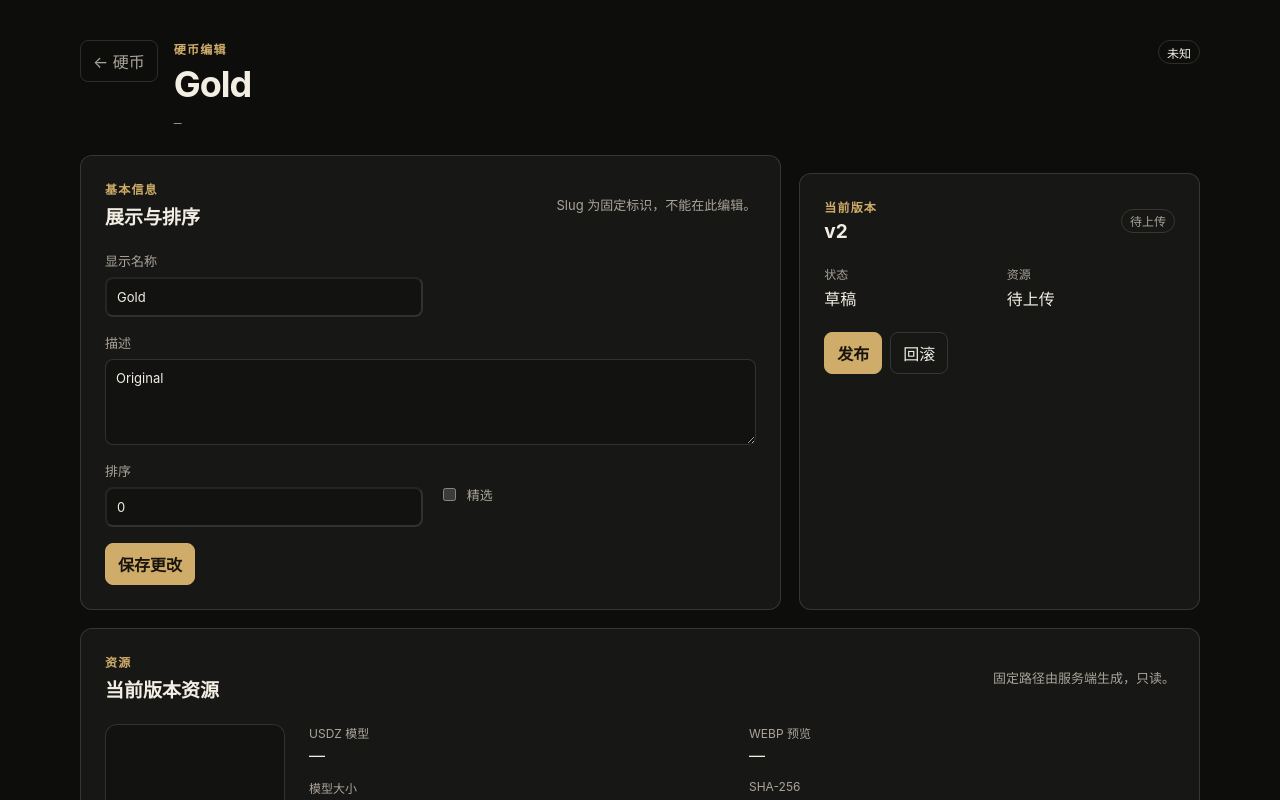
Test case: CoinEditorView › preserves form content and shows a safe error after API failure
Replace the text in the field with test id "display-name" with "Edited Gold". click: (264, 297)
box: [105,277,423,317]
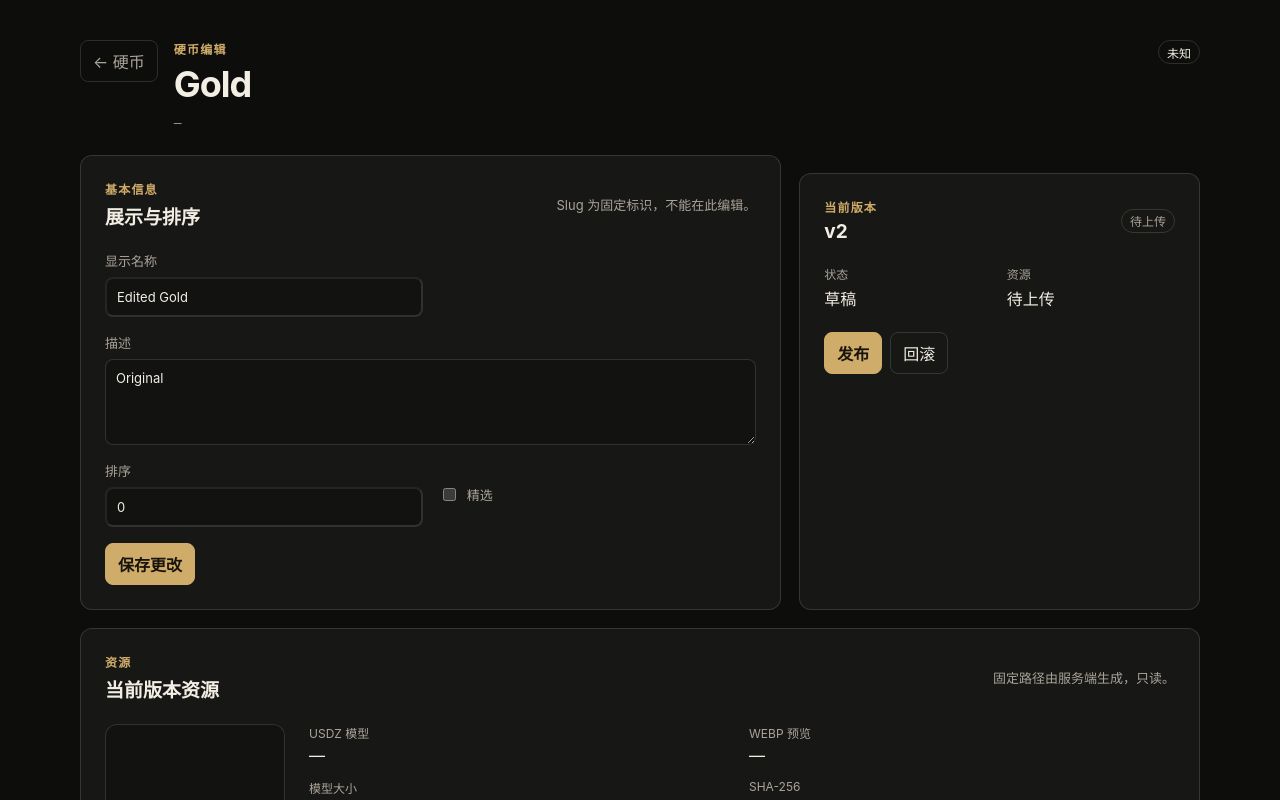
Submit the form, box [105,251,756,585]
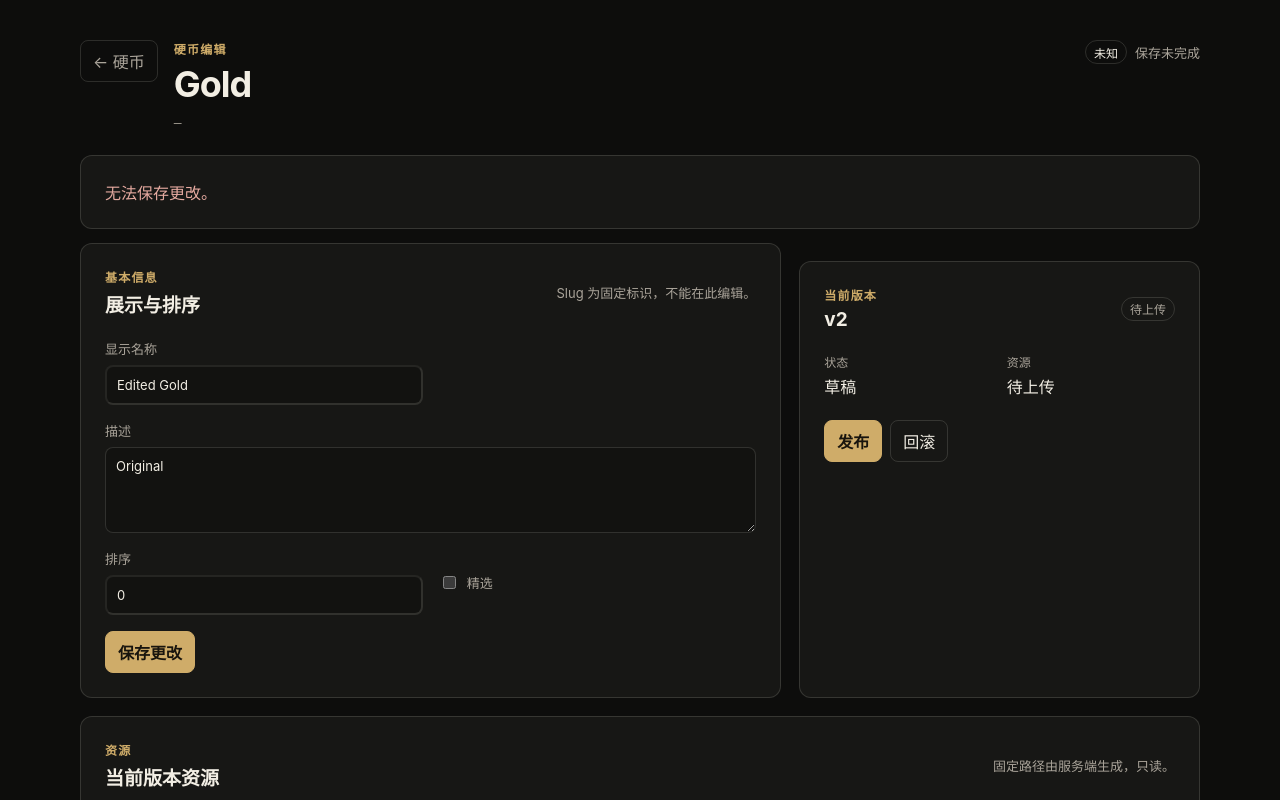
Now the text "无法保存更改。" is shown, box [80,155,1200,229]
